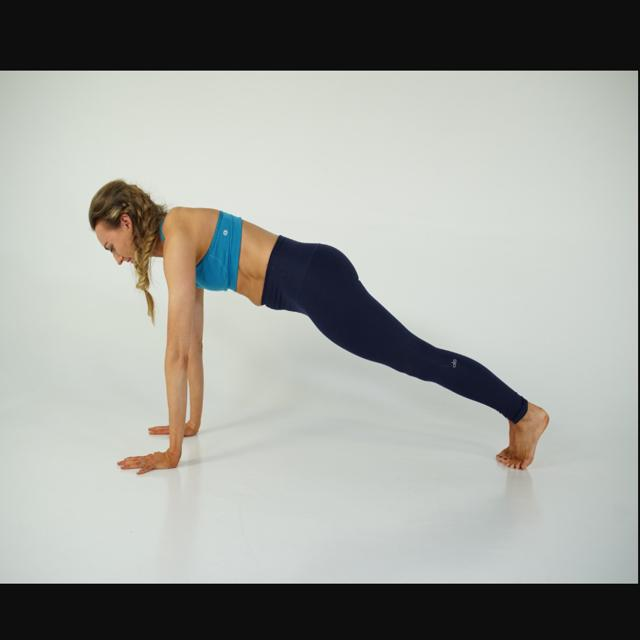Plank_Pose: (77, 171, 556, 484)
